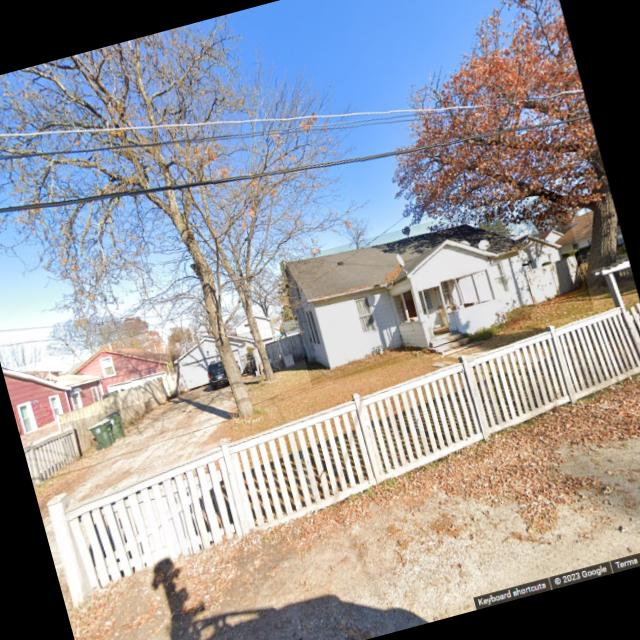House: (279, 186, 594, 385), (2, 328, 180, 435), (170, 331, 264, 402)
